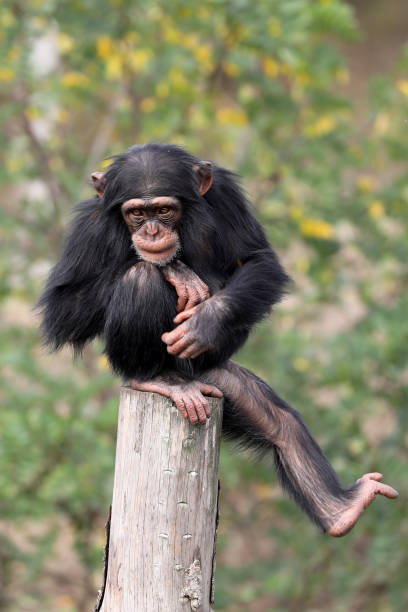chimpanzee: (74, 134, 239, 271)
